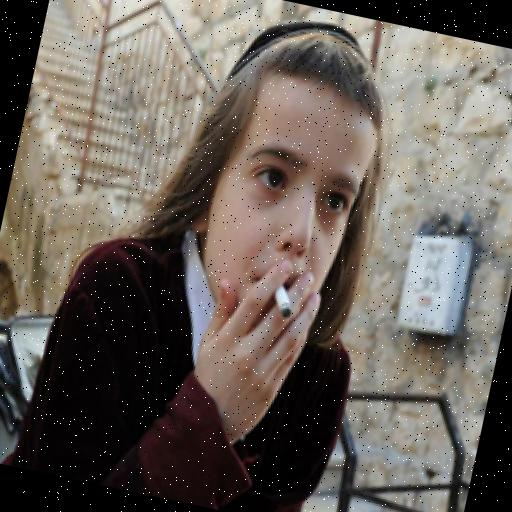terdeteksi merokok: (205, 143, 362, 352)
